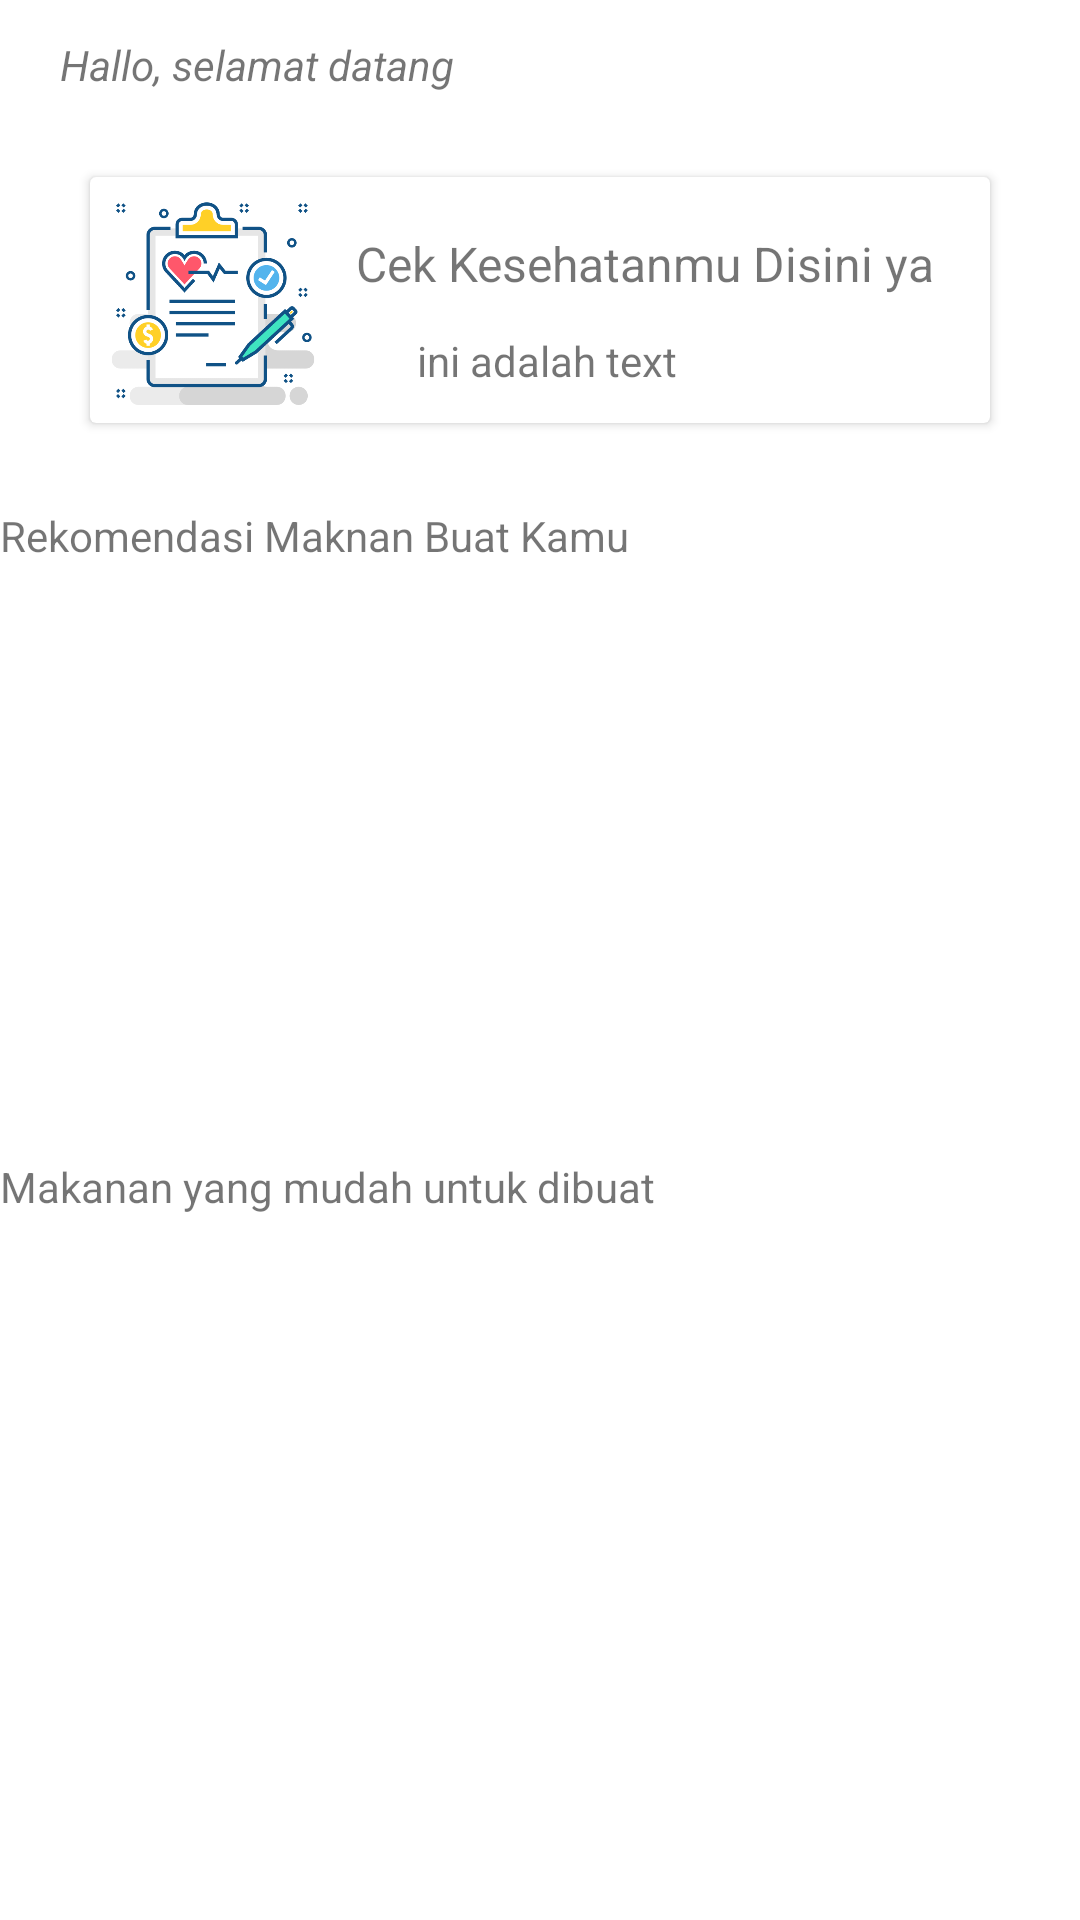

Named icons in this screenshot (1080*1920) and their bounding boxes, (x1, y1, x2, y2):
health: (116, 202, 314, 405)
